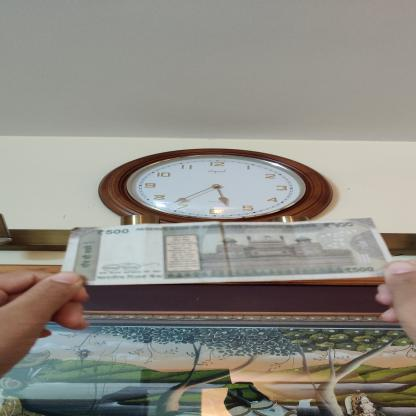New500Back: (61, 217, 397, 286)
